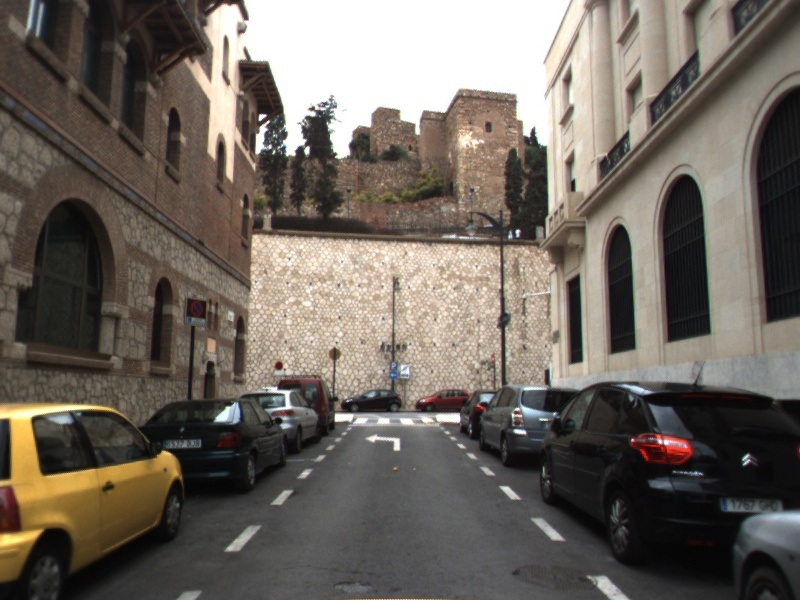LEFT: (363, 432, 403, 453)
